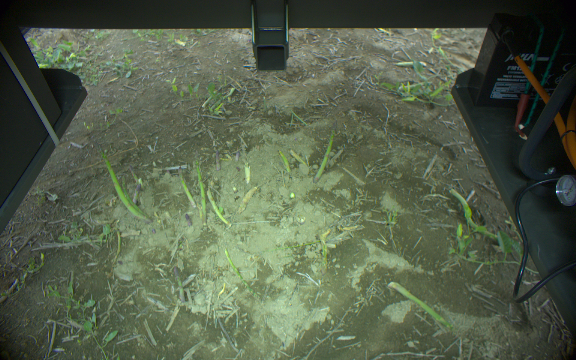aspa: (387, 279, 457, 337), (98, 151, 152, 223), (447, 189, 497, 241), (313, 122, 337, 182), (204, 185, 231, 228), (193, 162, 209, 227), (176, 165, 195, 208), (172, 264, 188, 305), (276, 149, 293, 177)
